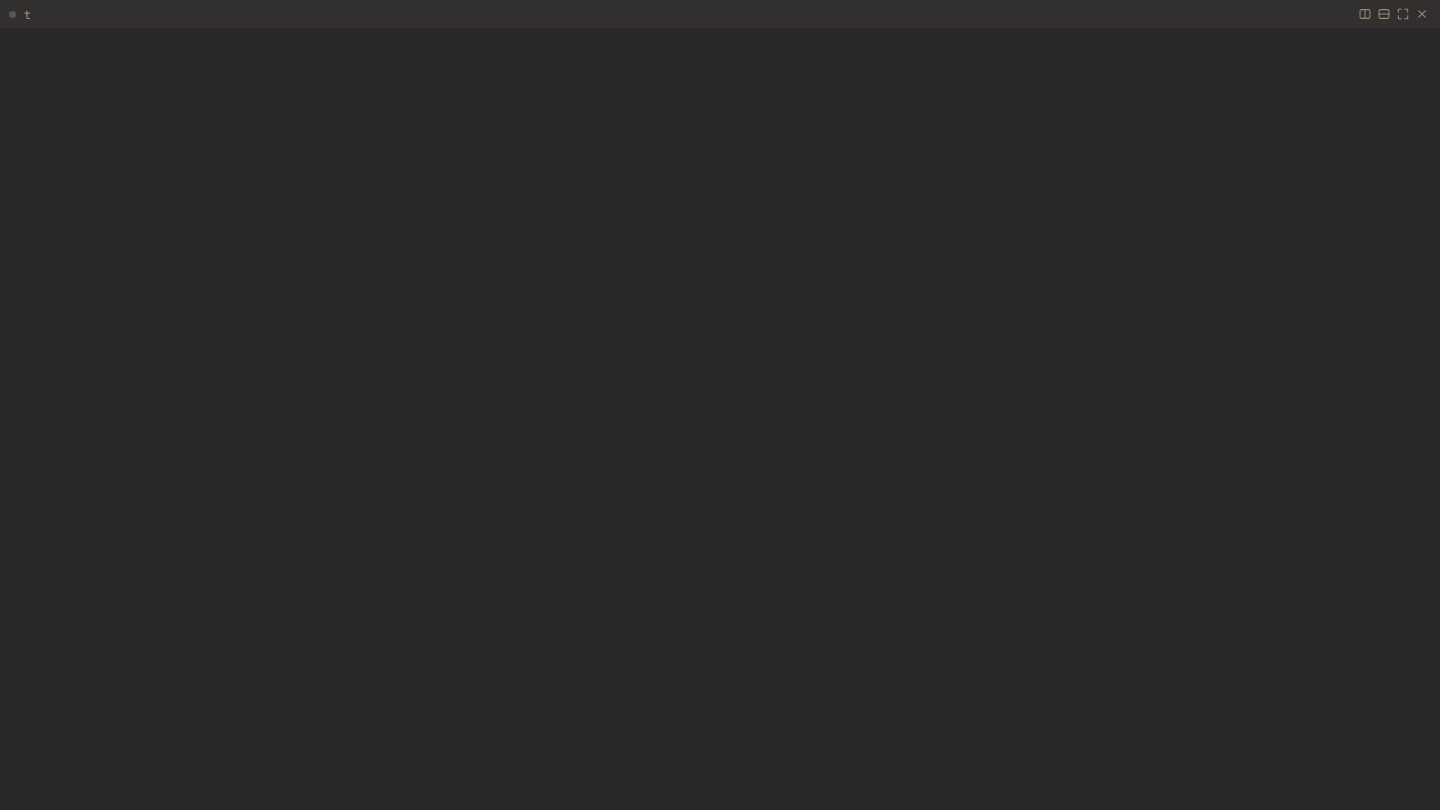
Test: PaneHeader — split type menu (right click) › closes the SplitMenu on a pointerdown outside
This screenshot has width=1440, height=810.
Right-click the button named "split right" at (1365, 14), box x1=1356 y1=5 x2=1374 y2=23
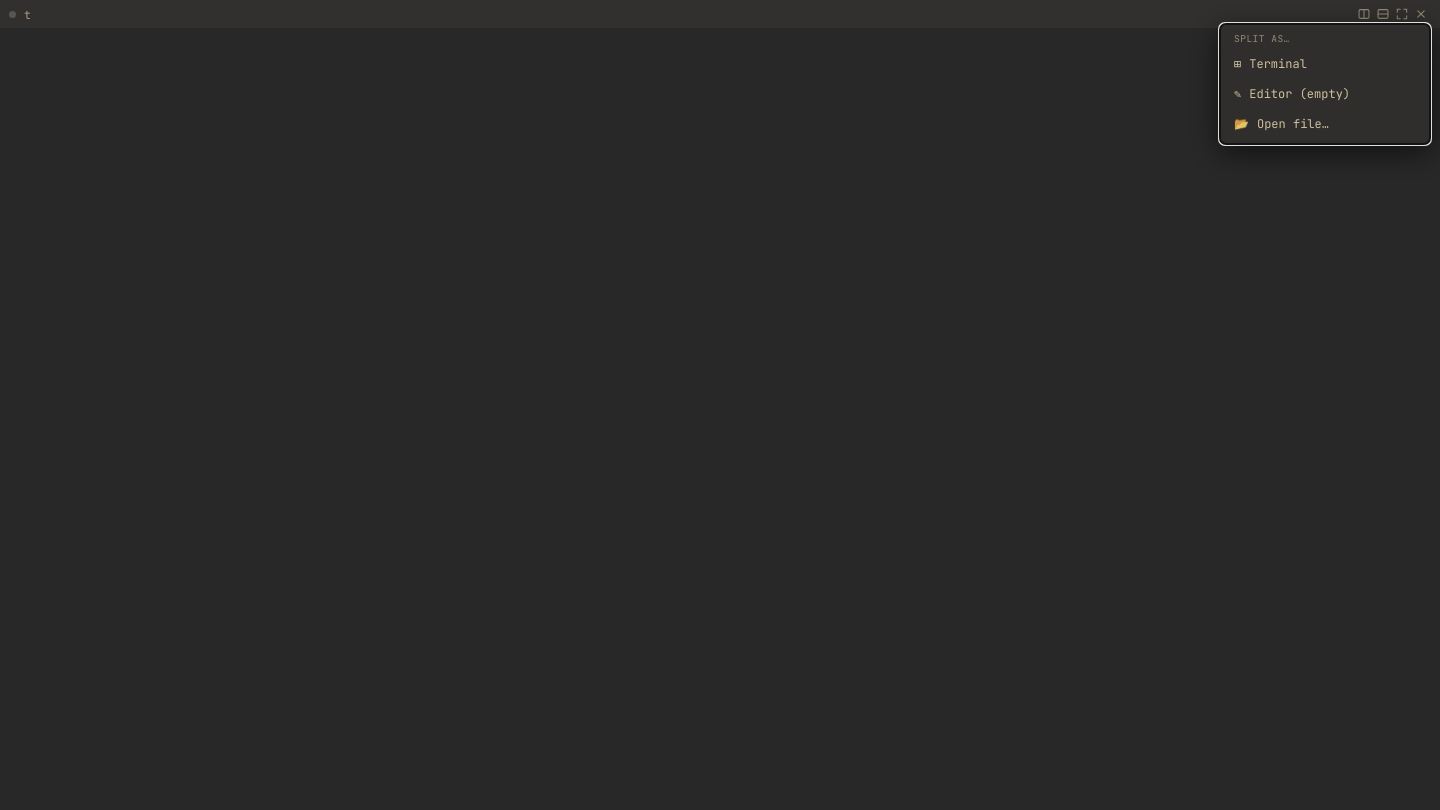
Press the mouse on the element showing "t" at (720, 405), box x1=0 y1=0 x2=1439 y2=809
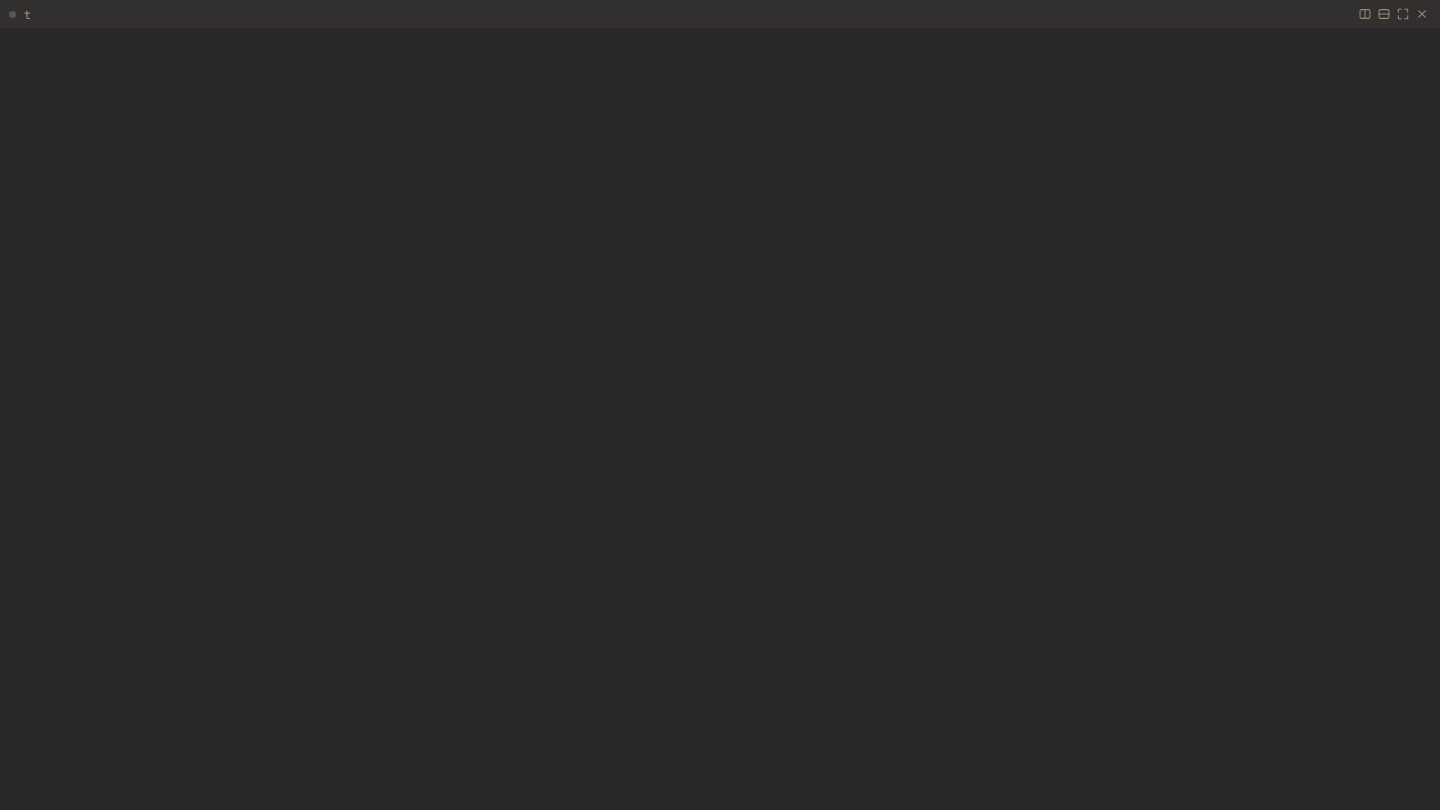
Check: the menu labelled "split menu" is gone
